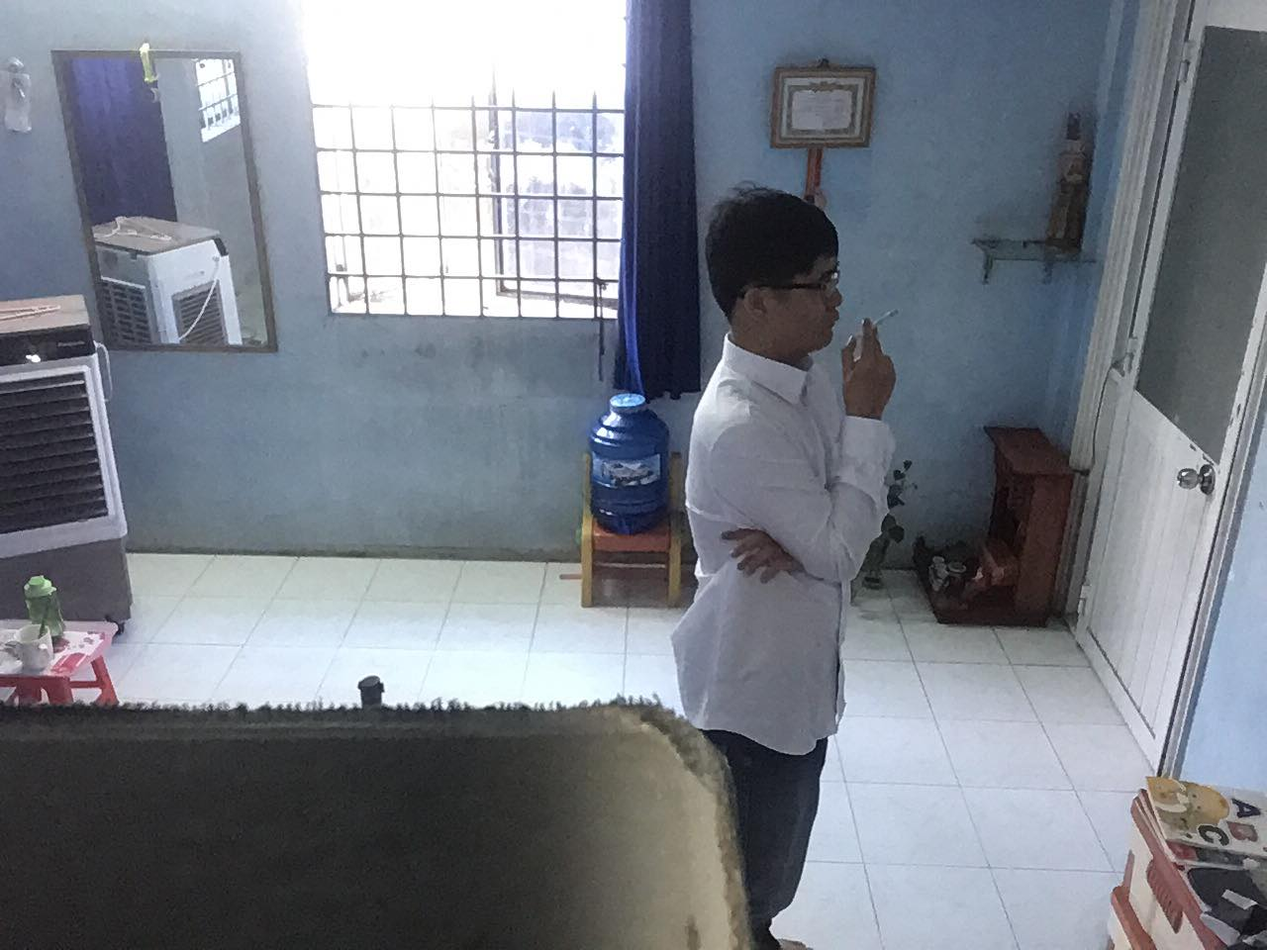cigarette: (867, 304, 900, 331)
person: (659, 167, 925, 901)
